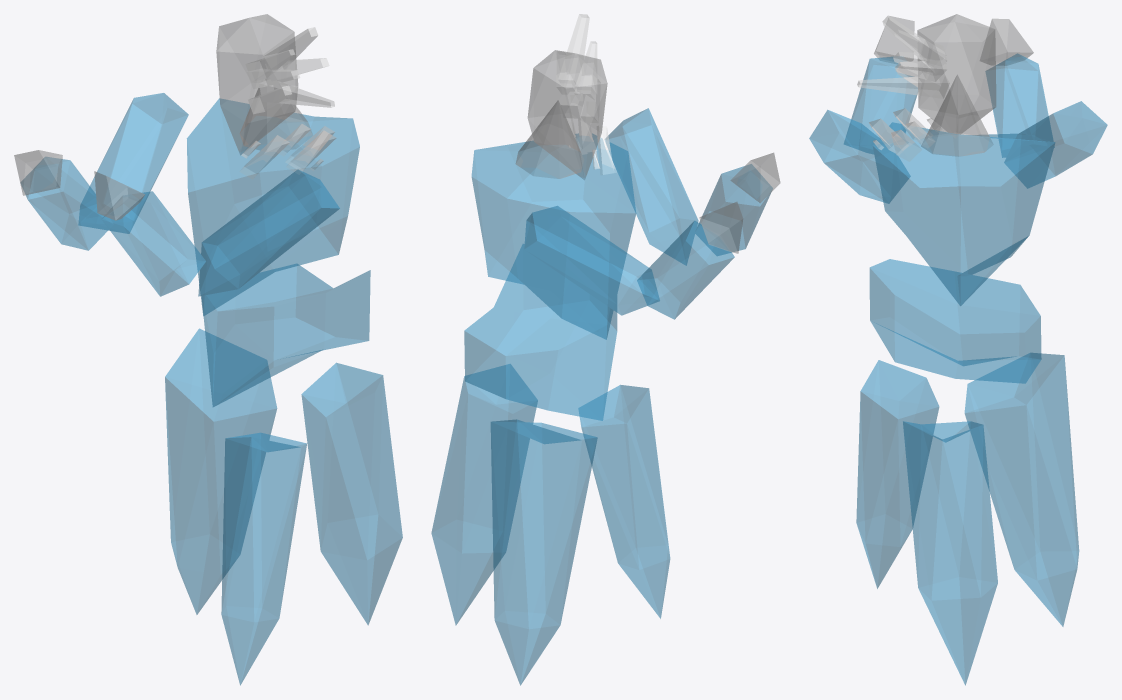
The model's file is ghostDistanceAttack19.obj.
The picture shows the model from 3 angles, left to right: view 1: azimuth 30°, elevation 25°; view 2: azimuth 150°, elevation 25°; view 3: azimuth 270°, elevation 25°; orthographic projection. The views are drawn at different scales.
Visible parts, largest first — view 1: Cube.001_Cube.007, Icosphere.020, Icosphere.019, Cube_Cube.007, Icosphere.018, Icosphere.005_Icosphere.007, Icosphere.003_Icosphere.007, Icosphere.007_Icosphere.006, Icosphere.006_Icosphere.006, Icosphere.008_Icosphere.006, Cone_Cone.007, Cube.003_Cube.007 (+8 smaller); view 2: Cube.001_Cube.007, Icosphere.020, Cube_Cube.007, Icosphere.019, Icosphere.018, Icosphere.007_Icosphere.006, Icosphere.003_Icosphere.007, Icosphere.005_Icosphere.007, Icosphere.008_Icosphere.006, Icosphere.006_Icosphere.006, Cone_Cone.007, Cube.003_Cube.007 (+4 smaller); view 3: Cube.001_Cube.007, Icosphere.020, Icosphere.019, Cube_Cube.007, Icosphere.018, Icosphere.003_Icosphere.007, Icosphere.005_Icosphere.007, Icosphere.007_Icosphere.006, Icosphere.008_Icosphere.006, Icosphere.006_Icosphere.006, Cone_Cone.007, Cube.003_Cube.007 (+6 smaller).
Boxes of the visible parts, x1,y1,x2,y2 form: Cube.001_Cube.007: (187,98,359,316); Icosphere.020: (165,328,277,614); Icosphere.019: (301,362,402,625); Cube_Cube.007: (202,264,370,406); Icosphere.018: (221,432,306,685); Icosphere.005_Icosphere.007: (198,169,339,296); Icosphere.003_Icosphere.007: (216,14,298,154); Icosphere.007_Icosphere.006: (78,93,188,233); Icosphere.006_Icosphere.006: (101,191,205,296); Icosphere.008_Icosphere.006: (21,157,113,250); Cone_Cone.007: (240,88,312,150); Cube.003_Cube.007: (14,150,62,195); Cube.001_Cube.007: (471,133,636,339); Icosphere.020: (490,419,597,685); Cube_Cube.007: (464,244,617,420); Icosphere.019: (431,364,537,625); Icosphere.018: (578,385,670,618); Icosphere.007_Icosphere.006: (524,206,659,315); Icosphere.003_Icosphere.007: (527,50,607,179); Icosphere.005_Icosphere.007: (605,108,698,265); Icosphere.008_Icosphere.006: (637,221,734,319); Icosphere.006_Icosphere.006: (695,164,772,255); Cone_Cone.007: (515,100,581,178); Cube.003_Cube.007: (699,202,743,253); Cube.001_Cube.007: (873,122,1055,305); Icosphere.020: (964,353,1079,626); Icosphere.019: (903,421,997,685); Cube_Cube.007: (869,259,1041,383); Icosphere.018: (856,360,939,588); Icosphere.003_Icosphere.007: (917,14,996,134); Icosphere.005_Icosphere.007: (809,110,910,203); Icosphere.007_Icosphere.006: (1004,101,1107,188); Icosphere.008_Icosphere.006: (985,53,1054,157); Icosphere.006_Icosphere.006: (844,57,917,153); Cone_Cone.007: (921,75,993,156); Cube.003_Cube.007: (980,18,1033,65).
Bounding box in the file's own units: 25.72 × 45.8 × 19.88.
